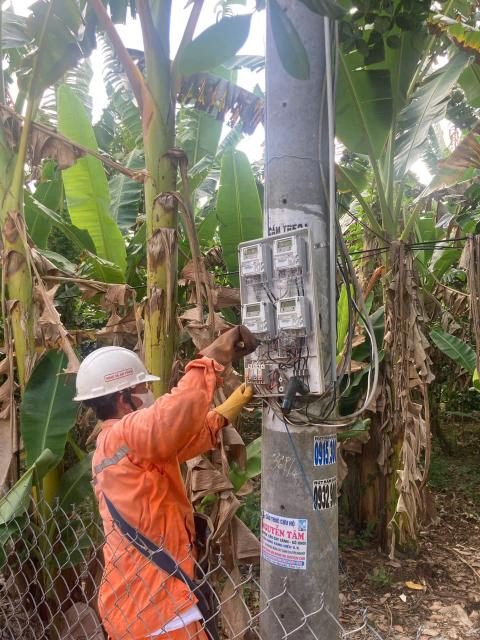gloves: (177, 320, 272, 370), (216, 373, 260, 447)
helmet: (51, 344, 169, 409)
